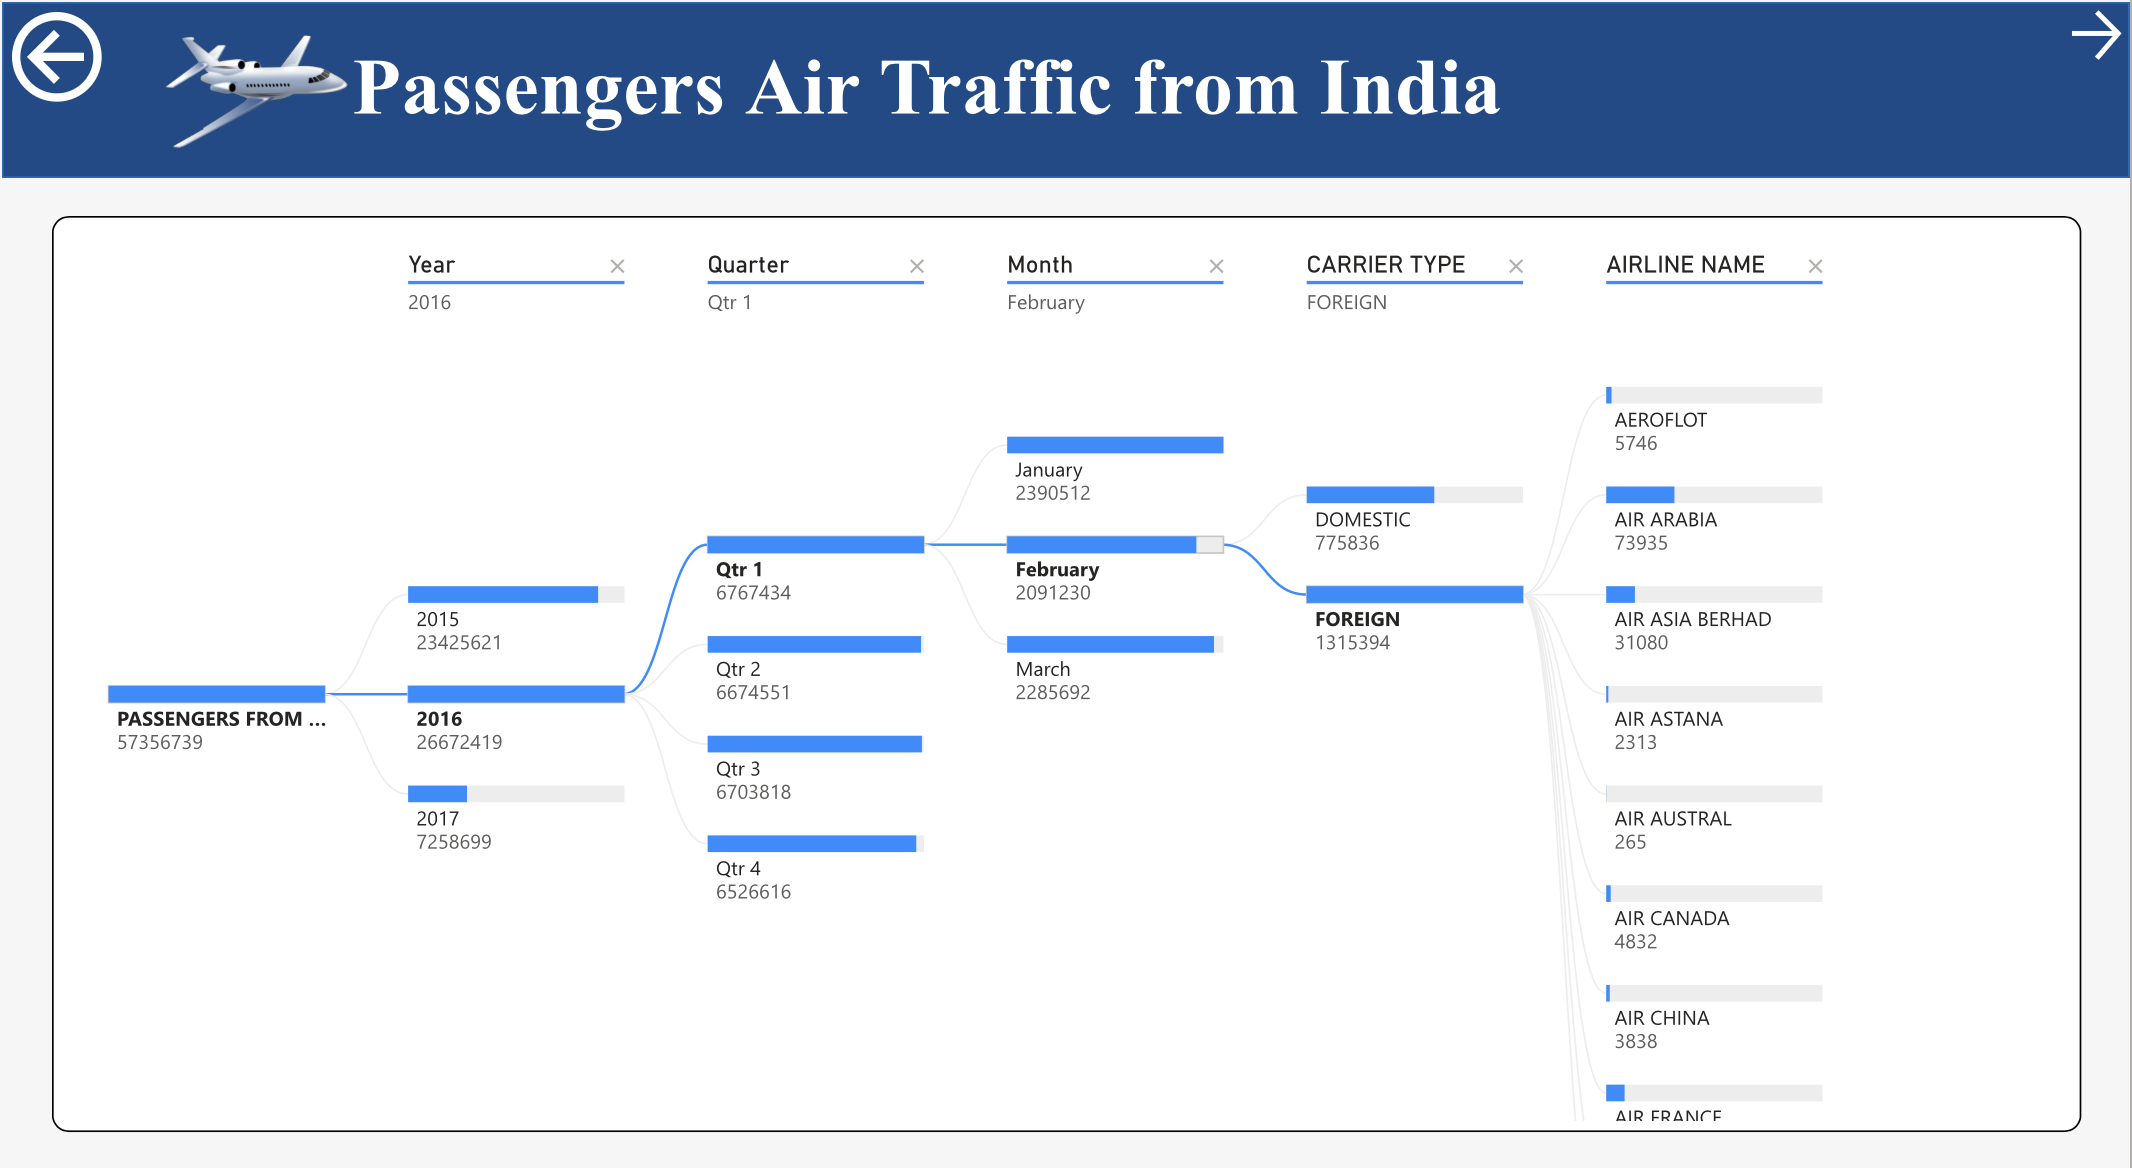

What the dashboard file says about the page in this screenshot:
{"tool":"powerbi","page":{"name":"Decomposition tree","canvas":[1280,720],"ordinal":7},"visuals":[{"type":"shape","box":[1.4,10,1278.6,105.8],"z":0},{"type":"decompositionTreeVisual","fields":{"Analyze":["Sum(Airlinewise Monthly International Air Traffic.PASSENGERS FROM INDIA)"],"ExplainBy":["Airlinewise Monthly International Air Traffic.Date.Variation.Date Hierarchy.Year","Airlinewise Monthly International Air Traffic.Date.Variation.Date Hierarchy.Quarter","Airlinewise Monthly International Air Traffic.Date.Variation.Date Hierarchy.Month","Airlinewise Monthly International Air Traffic.CARRIER TYPE","Airlinewise Monthly International Air Traffic.AIRLINE NAME"]},"box":[31.6,138.7,1219.6,550.7],"z":1000},{"type":"actionButton","box":[1.4,9.6,145.6,65.9],"z":2000},{"type":"image","box":[61.8,2.7,185.4,120.9],"z":3000},{"type":"textbox","box":[206.4,27.9,911.9,70],"z":4000},{"type":"actionButton","box":[1238.6,9.6,41,39.8],"z":5000}]}

Visuals, with their boxes in screenshot pixels (x1, y1, x2, y2), scaled from the page's 1280x720 canvas onto the 2132x1168 screenshot:
shape: l=2, t=16, r=2131, b=188
decompositionTreeVisual - Sum(Airlinewise Monthly International Air Traffic.PASSENGERS FROM INDIA) x Airlinewise Monthly International Air Traffic.Date.Variation.Date Hierarchy.Year: l=53, t=225, r=2084, b=1118
actionButton: l=2, t=16, r=245, b=122
image: l=103, t=4, r=412, b=201
textbox: l=344, t=45, r=1863, b=159
actionButton: l=2063, t=16, r=2131, b=80
